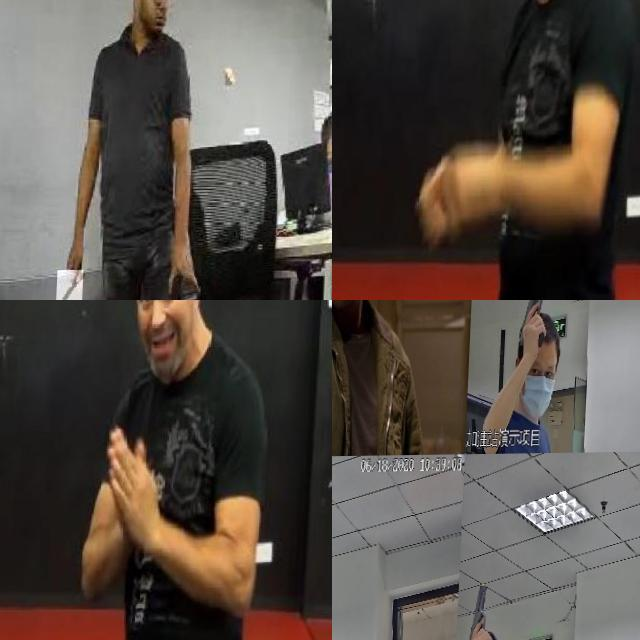-: (0, 517, 56, 636), (332, 257, 380, 300), (60, 270, 88, 300)
gun-knife-thesis - v11 Yolov5 augmented: (332, 300, 388, 460), (515, 300, 553, 353), (467, 578, 499, 640), (332, 587, 340, 640)
